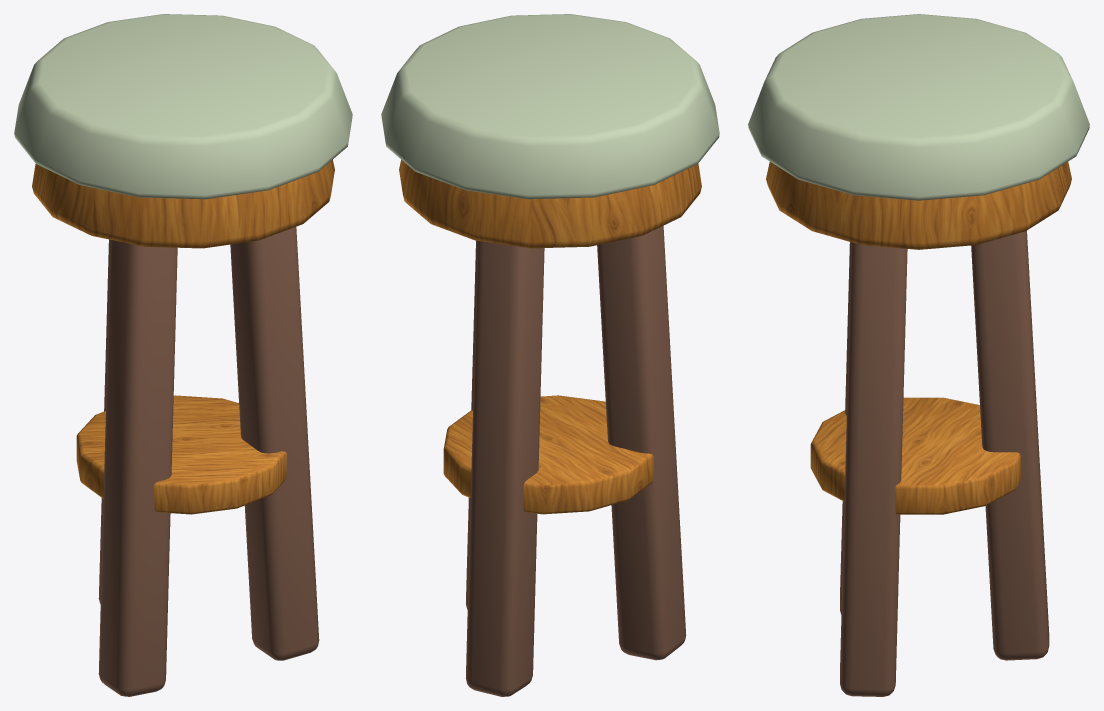
Rendered from bar-stool.glb.
3 renders of one model, left to right at view 1: azimuth 30°, elevation 25°; view 2: azimuth 150°, elevation 25°; view 3: azimuth 270°, elevation 25°, orthographic.
Visible parts, largest first — view 1: bar-stool; view 2: bar-stool; view 3: bar-stool.
Part boxes in pixels (<box>): bar-stool: <box>14,14,352,696</box>; bar-stool: <box>381,14,719,696</box>; bar-stool: <box>748,14,1089,696</box>.
Size of the model in its own units: 0.3977 by 0.7409 by 0.3977.
3 materials, 1 textured.
